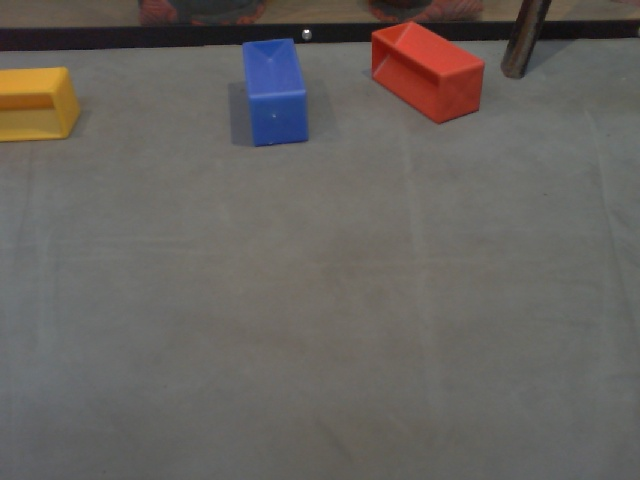BlueSample: (237, 36, 314, 152)
RedSample: (364, 15, 488, 126)
YellowSample: (1, 64, 84, 144)
